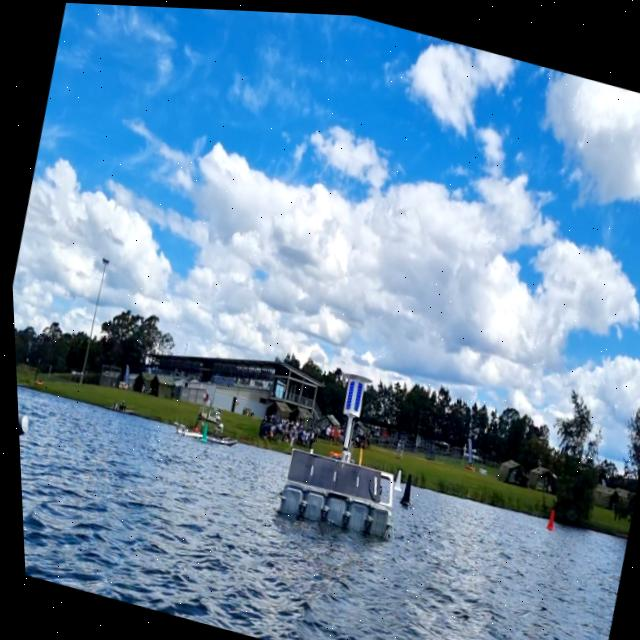led: (346, 376, 362, 412), (339, 376, 354, 408)
